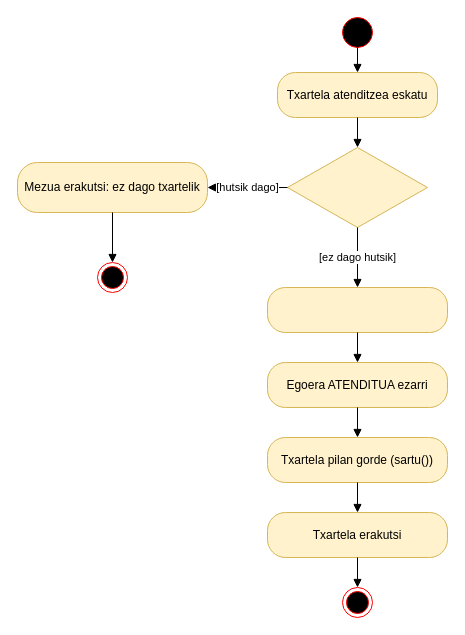
This 465x635 diagram has some shape labels left out. The centre of each missing label's shape, as x and y in pixels:
Ilara hutsik al dago?: the point at 357,187
Txartela ilaratik atera (atera()): the point at 357,309
